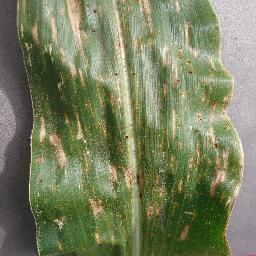Gray_Leaf_Spot: (72, 0, 209, 181), (211, 83, 243, 211), (28, 110, 72, 173), (134, 180, 165, 239), (86, 190, 111, 244), (116, 181, 134, 239), (11, 18, 31, 70), (52, 51, 71, 102), (219, 211, 234, 256), (49, 9, 63, 50), (179, 211, 196, 242), (29, 14, 41, 49), (0, 114, 18, 135), (52, 214, 71, 232), (16, 0, 38, 14), (175, 180, 189, 200), (57, 238, 65, 256)
